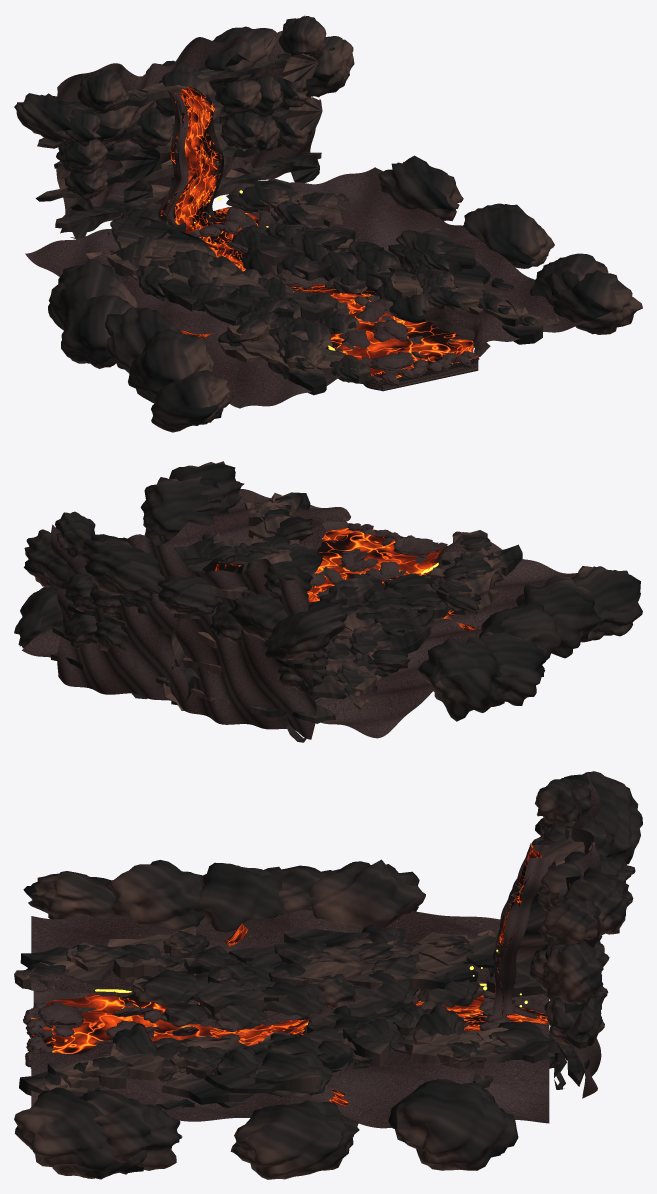
File: b4-magma-river-p1-v4.glb
3 renders of one model, top to bottom at view 1: azimuth 30°, elevation 25°; view 2: azimuth 150°, elevation 25°; view 3: azimuth 270°, elevation 25°, orthographic. The views are drawn at different scales.
Parts seen in each view (by area): view 1: ERODED_BASALT_BANK_1, ERODED_BASALT_BANK_-1, CONTINUOUS_FRACTURED_BASALT_CLIFF, FALLING_MAGMA_CASCADE, CAVERN_ROCK_FACE, CAVERN_ROCK_FACE.001, CAVERN_ROCK_FACE.008, CAVERN_ROCK_FACE.005, CAVERN_ROCK_FACE.004, CAVERN_ROCK_FACE.007, MOLTEN_POOL_WIDENING, CAVERN_ROCK_FACE.009 (+52 smaller); view 2: CONTINUOUS_FRACTURED_BASALT_CLIFF, ERODED_BASALT_BANK_-1, CAVERN_ROCK_FACE.009, ERODED_BASALT_BANK_1, REAR_IRREGULAR_BASALT_OVERHANG.003, CAVERN_ROCK_FACE.006, CAVERN_ROCK_FACE.001, CAVERN_ROCK_FACE.005, REAR_IRREGULAR_BASALT_OVERHANG, CAVERN_ROCK_FACE.007, MOLTEN_POOL_WIDENING, CAVERN_ROCK_FACE.003 (+36 smaller); view 3: ERODED_BASALT_BANK_1, ERODED_BASALT_BANK_-1, CAVERN_ROCK_FACE.004, CAVERN_ROCK_FACE, CAVERN_ROCK_FACE.008, CAVERN_ROCK_FACE.009, CAVERN_ROCK_FACE.001, CAVERN_ROCK_FACE.003, CAVERN_ROCK_FACE.006, MOLTEN_POOL_WIDENING, CAVERN_ROCK_FACE.005, V15_THICK_CASCADE_COOLING_SIDEWALL.001 (+57 smaller).
Boxes of the visible parts, x1=… form: ERODED_BASALT_BANK_1: x1=230, y1=167, x2=589, y2=350; ERODED_BASALT_BANK_-1: x1=25, y1=229, x2=379, y2=408; CONTINUOUS_FRACTURED_BASALT_CLIFF: x1=56, y1=15, x2=315, y2=233; FALLING_MAGMA_CASCADE: x1=160, y1=86, x2=221, y2=233; CAVERN_ROCK_FACE: x1=463, y1=203, x2=554, y2=268; CAVERN_ROCK_FACE.001: x1=128, y1=328, x2=213, y2=403; CAVERN_ROCK_FACE.008: x1=552, y1=270, x2=642, y2=334; CAVERN_ROCK_FACE.005: x1=151, y1=370, x2=233, y2=432; CAVERN_ROCK_FACE.004: x1=378, y1=155, x2=463, y2=221; CAVERN_ROCK_FACE.007: x1=61, y1=295, x2=134, y2=368; MOLTEN_POOL_WIDENING: x1=313, y1=303, x2=459, y2=374; CAVERN_ROCK_FACE.009: x1=48, y1=258, x2=137, y2=330; CONTINUOUS_FRACTURED_BASALT_CLIFF: x1=50, y1=524, x2=316, y2=739; ERODED_BASALT_BANK_-1: x1=315, y1=531, x2=577, y2=738; CAVERN_ROCK_FACE.009: x1=417, y1=636, x2=508, y2=721; ERODED_BASALT_BANK_1: x1=22, y1=489, x2=350, y2=657; REAR_IRREGULAR_BASALT_OVERHANG.003: x1=77, y1=538, x2=165, y2=602; CAVERN_ROCK_FACE.006: x1=140, y1=476, x2=228, y2=545; CAVERN_ROCK_FACE.001: x1=516, y1=575, x2=600, y2=658; CAVERN_ROCK_FACE.005: x1=571, y1=566, x2=642, y2=642; REAR_IRREGULAR_BASALT_OVERHANG: x1=264, y1=599, x2=347, y2=660; CAVERN_ROCK_FACE.007: x1=479, y1=631, x2=546, y2=705; MOLTEN_POOL_WIDENING: x1=312, y1=532, x2=442, y2=596; CAVERN_ROCK_FACE.003: x1=479, y1=602, x2=561, y2=660; ERODED_BASALT_BANK_1: x1=31, y1=1023, x2=549, y2=1128; ERODED_BASALT_BANK_-1: x1=31, y1=910, x2=549, y2=1007; CAVERN_ROCK_FACE.004: x1=388, y1=1079, x2=518, y2=1170; CAVERN_ROCK_FACE: x1=230, y1=1100, x2=359, y2=1179; CAVERN_ROCK_FACE.008: x1=14, y1=1087, x2=122, y2=1179; CAVERN_ROCK_FACE.009: x1=309, y1=859, x2=425, y2=928; CAVERN_ROCK_FACE.001: x1=104, y1=860, x2=204, y2=929; CAVERN_ROCK_FACE.003: x1=194, y1=862, x2=291, y2=932; CAVERN_ROCK_FACE.006: x1=86, y1=1092, x2=182, y2=1170; MOLTEN_POOL_WIDENING: x1=46, y1=993, x2=237, y2=1054; CAVERN_ROCK_FACE.005: x1=23, y1=871, x2=115, y2=919; V15_THICK_CASCADE_COOLING_SIDEWALL.001: x1=492, y1=858, x2=550, y2=1013.
Size of the model in its own units: 8.52 by 3.31 by 8.14.
Materials: 7 (4 with a texture image).
